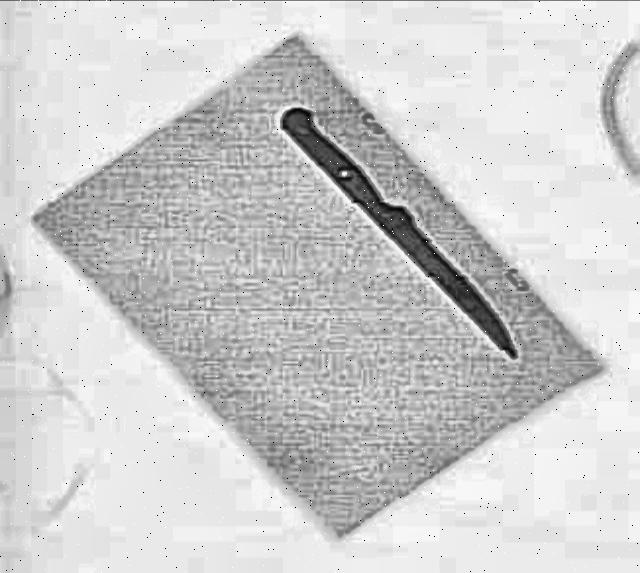Knife: (266, 100, 534, 370)
